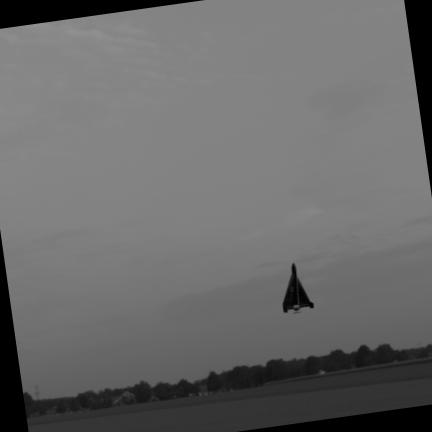Shahed: (282, 263, 313, 313)
